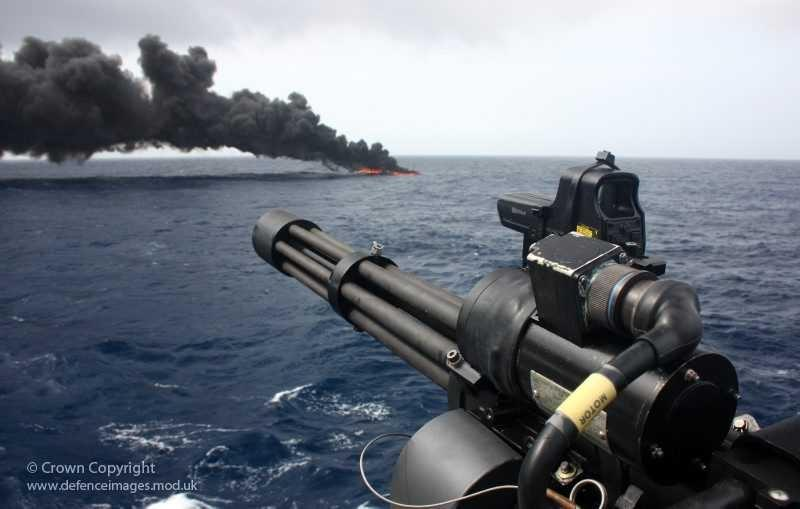fire: (355, 156, 421, 178)
smoke: (18, 70, 290, 150)
